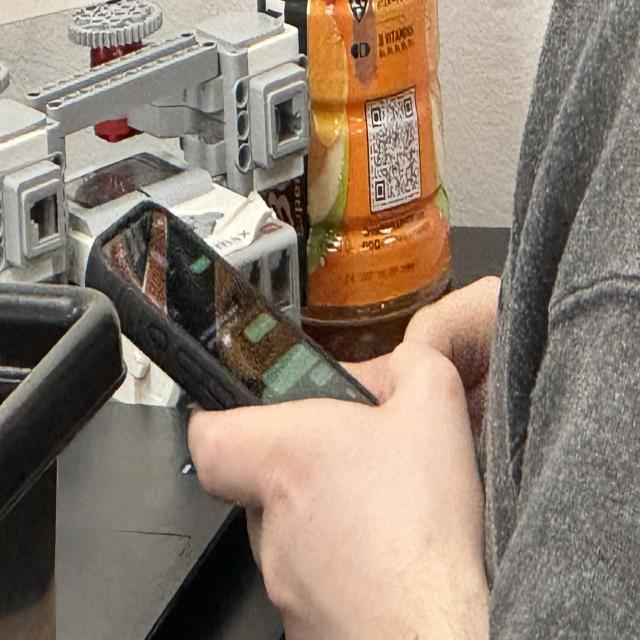pen: (85, 199, 414, 561)
